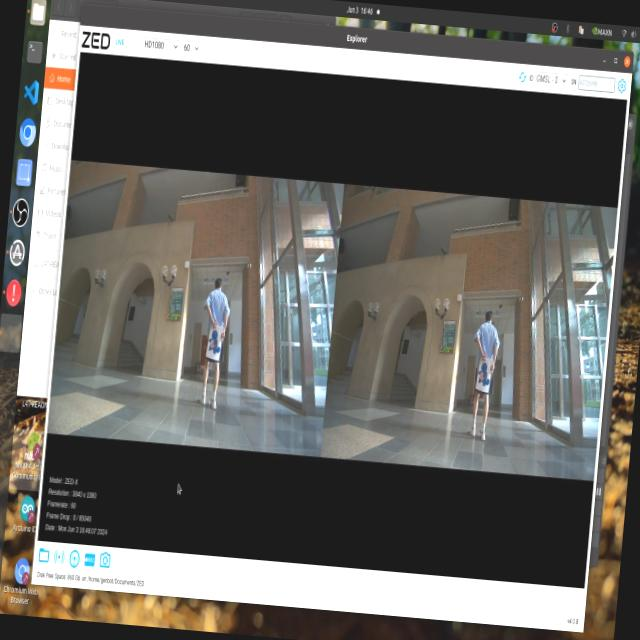blue: (476, 360, 496, 393), (206, 329, 224, 364)
